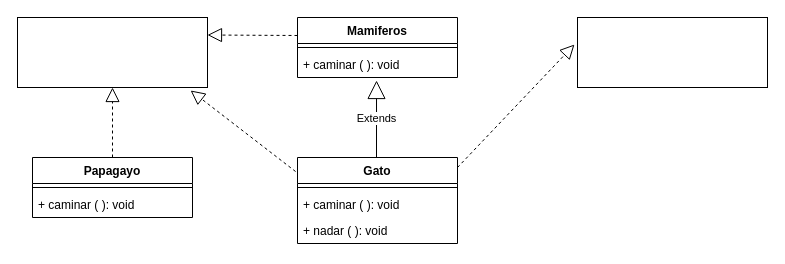
The diagram is 785 pixels wide and 264 high, and some of its shapes have lost their labels. Each missing label, with the centre of its shape:
<<Interface>> IPuedeCaminar + caminar ( ) ; : void: the point at 112,52
<<Interface>> IPuedeNadar + nadar( ) ; : void: the point at 672,52
